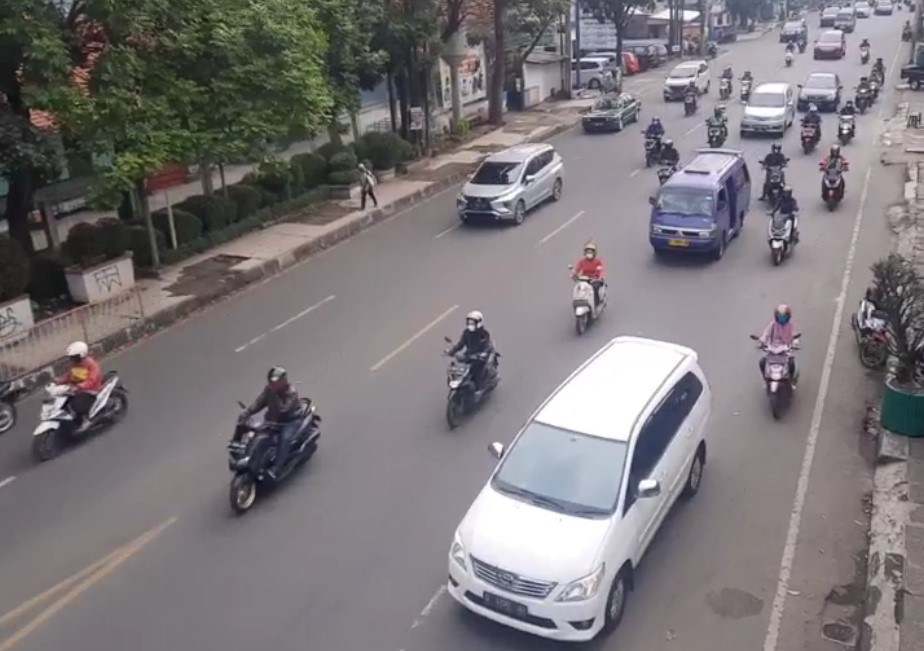motor: (214, 357, 325, 520), (28, 343, 131, 464), (427, 309, 509, 426), (750, 304, 808, 417), (565, 242, 610, 330), (766, 186, 804, 267), (811, 144, 851, 210)
